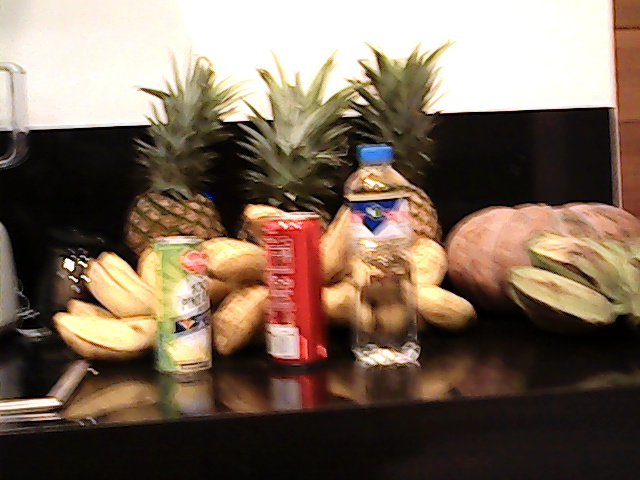Cola: (255, 210, 331, 363)
Pine Juice: (149, 237, 215, 378)
Summit Water: (342, 143, 422, 367)
